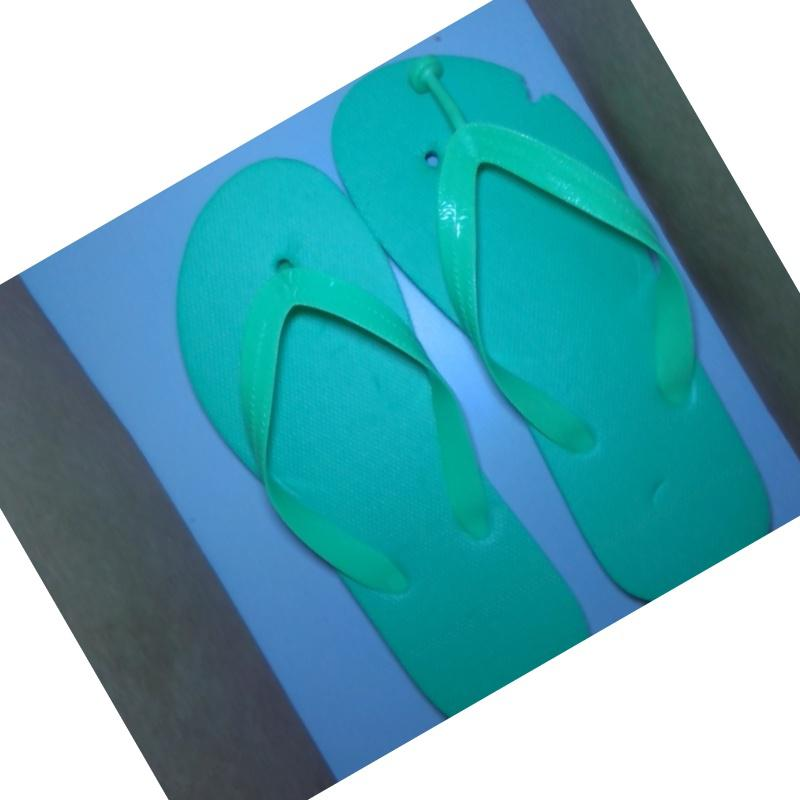chipped: (512, 58, 569, 122)
detached: (405, 53, 457, 107)
